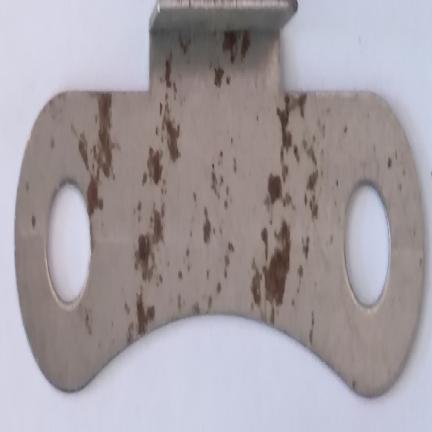karat: (77, 87, 113, 220), (264, 221, 290, 305), (165, 105, 179, 162), (137, 294, 154, 335), (148, 148, 162, 184)
